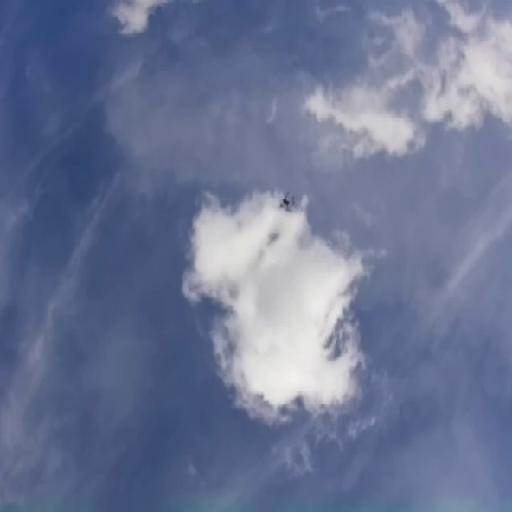drones: (276, 184, 301, 218)
